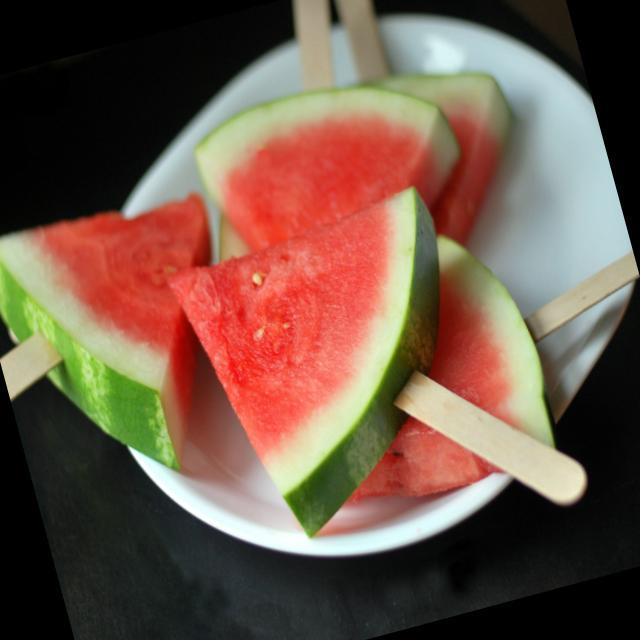WATERMELON: (158, 184, 504, 557), (0, 170, 269, 499), (325, 182, 567, 502), (181, 54, 477, 264), (334, 36, 536, 230)
